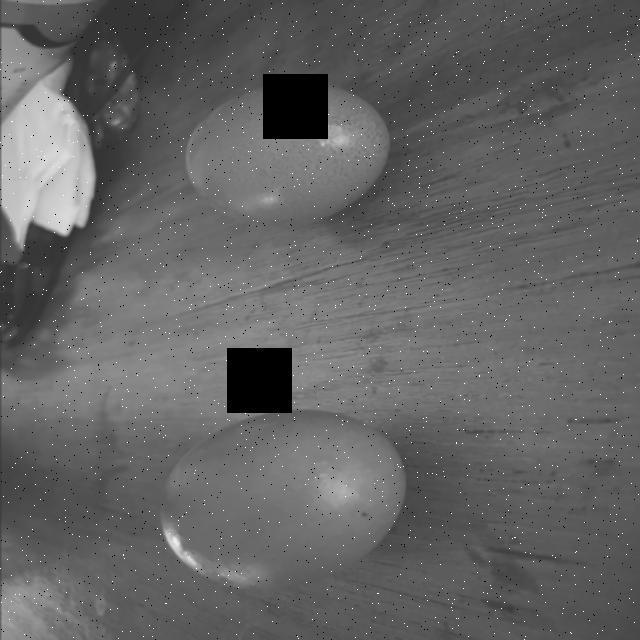egg: (158, 406, 412, 600), (180, 78, 402, 238)
